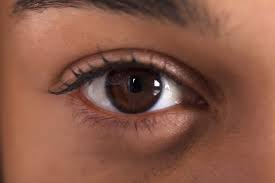pupil: (106, 64, 161, 113)
